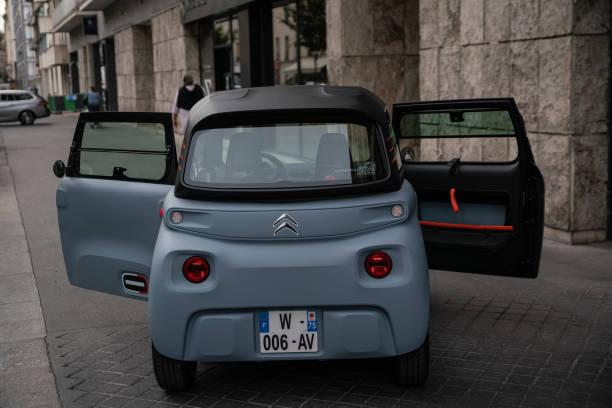Citroen: (262, 201, 312, 245)
